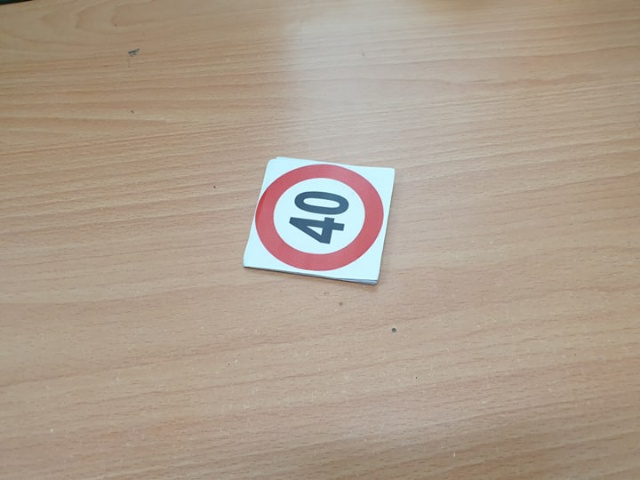Limit 40: (257, 164, 384, 277)
